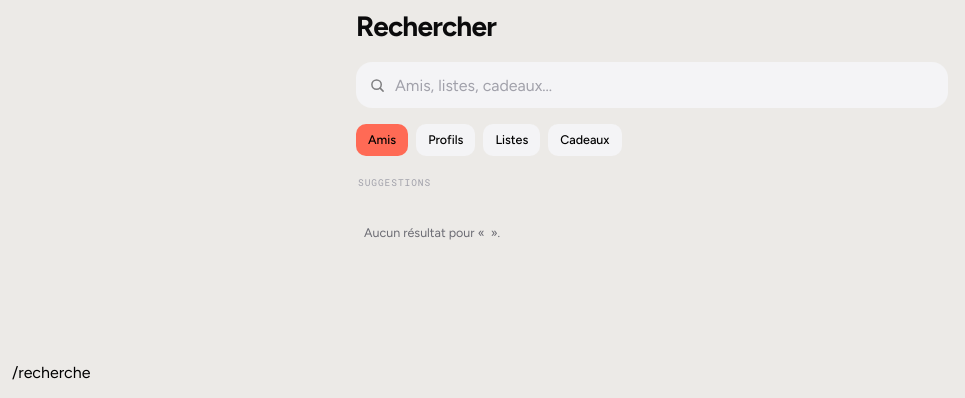
marks the active filter and relabels the results
Click the button "Listes": (512, 140) x1=483 y1=124 x2=540 y2=156
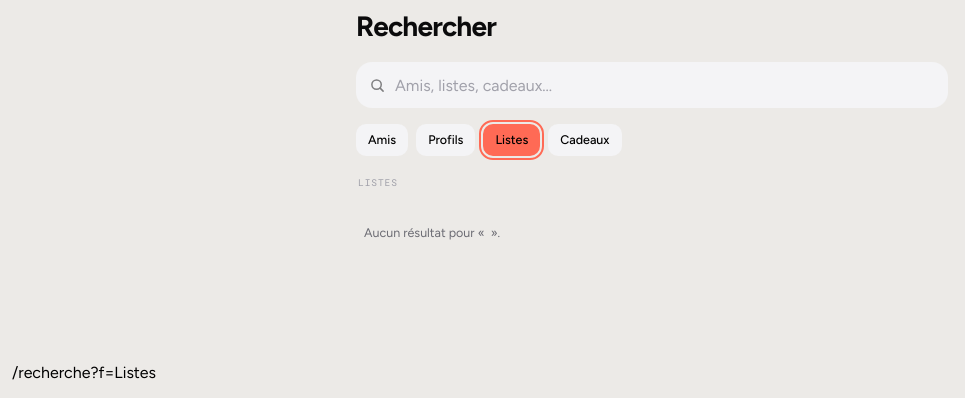
Result: the text "Listes" is shown at x1=358 y1=176 x2=398 y2=189
Result: the text with test id "search" shows "f=Listes" at x1=90 y1=363 x2=156 y2=382
